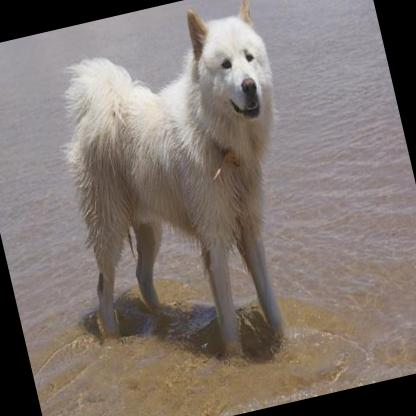Samoyed: (28, 0, 331, 389)
